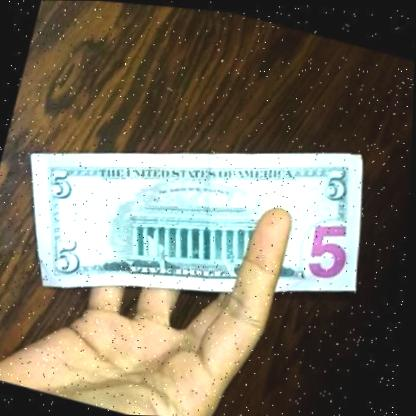five-back: (0, 65, 404, 363)
